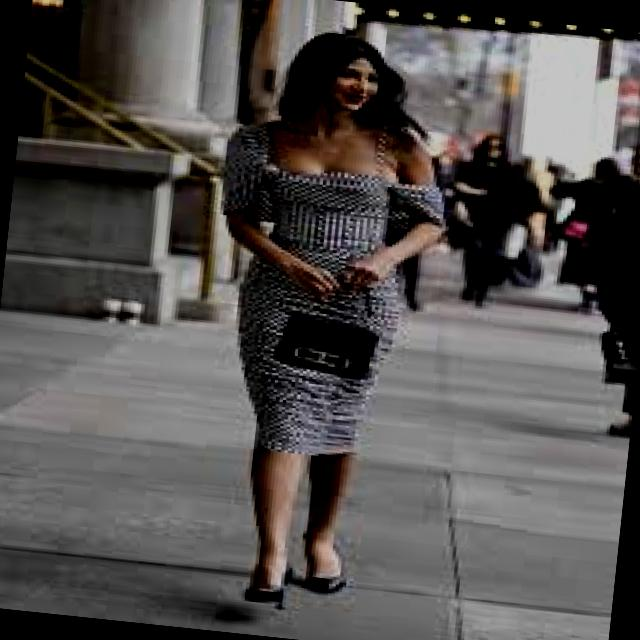dress: (238, 257, 401, 456)
